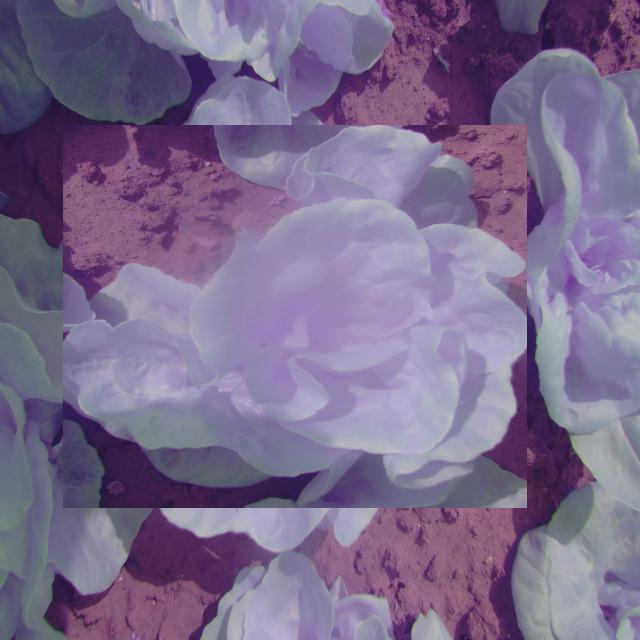vege: (82, 104, 506, 529)
